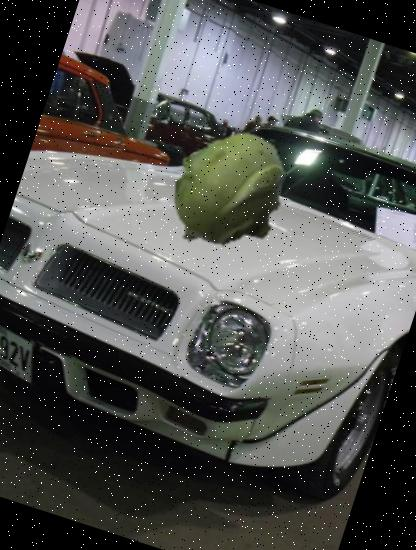Kohlrabi: (144, 108, 314, 278)
